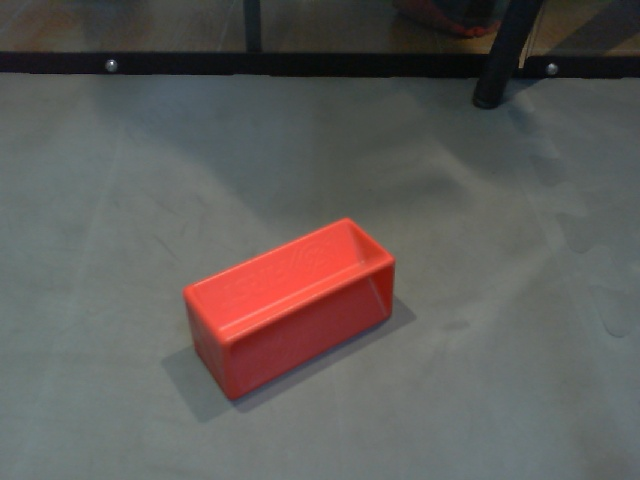RedSample: (182, 216, 396, 403)
